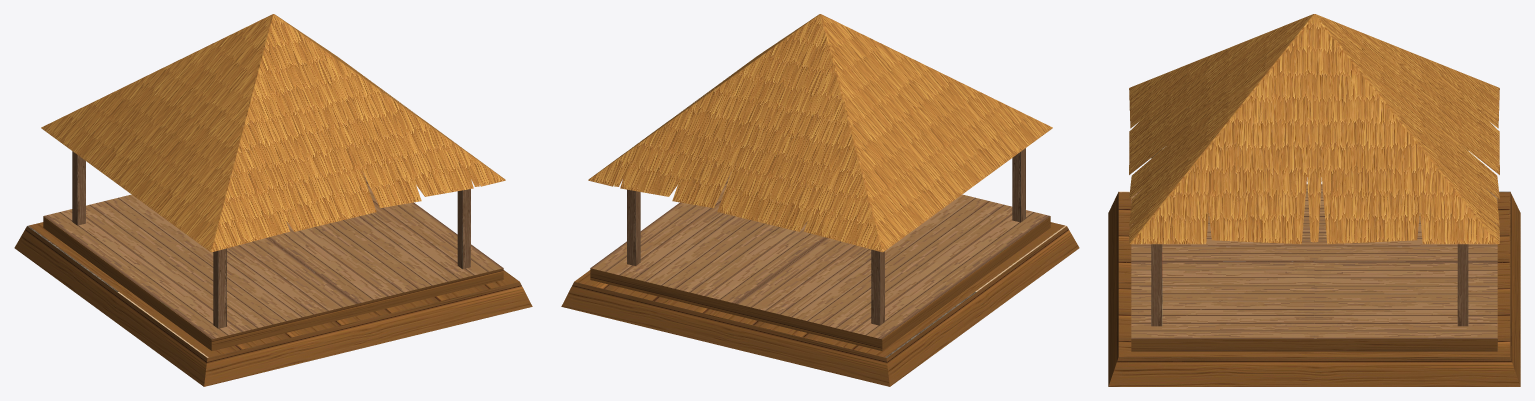
3 views of the same model, side by side, from view 1: azimuth 30°, elevation 25°; view 2: azimuth 150°, elevation 25°; view 3: azimuth 270°, elevation 25° (orthographic). The views are drawn at different scales.
Parts seen in each view (by area): view 1: defaultMaterial.029; view 2: defaultMaterial.029; view 3: defaultMaterial.029.
Boxes of the visible parts, box(x1,y1,x2,y2) form: defaultMaterial.029: box(14, 14, 532, 386); defaultMaterial.029: box(561, 14, 1079, 386); defaultMaterial.029: box(1108, 14, 1520, 386).
Size of the model in its own units: 461 by 353 by 461.
Materials: 1 (1 with a texture image).
